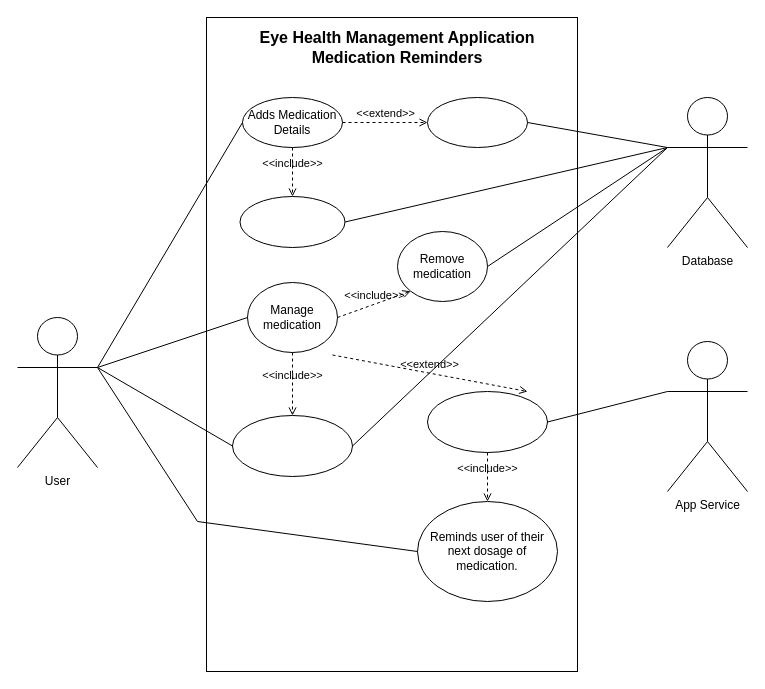
The diagram is 765 pixels wide and 689 high, and some of its shapes have lost their labels. The shapes that lost their labels are listed below. From the top down, each one's centre as x and y in pixels, then its label:
(477,122): Search for Medication
(292,222): Store Medication details
(487,421): Obtains Medication Reminders
(292,445): Update medication details
